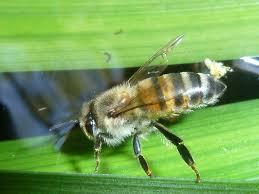Apis-mellifera-scutellata: (53, 27, 230, 186)
